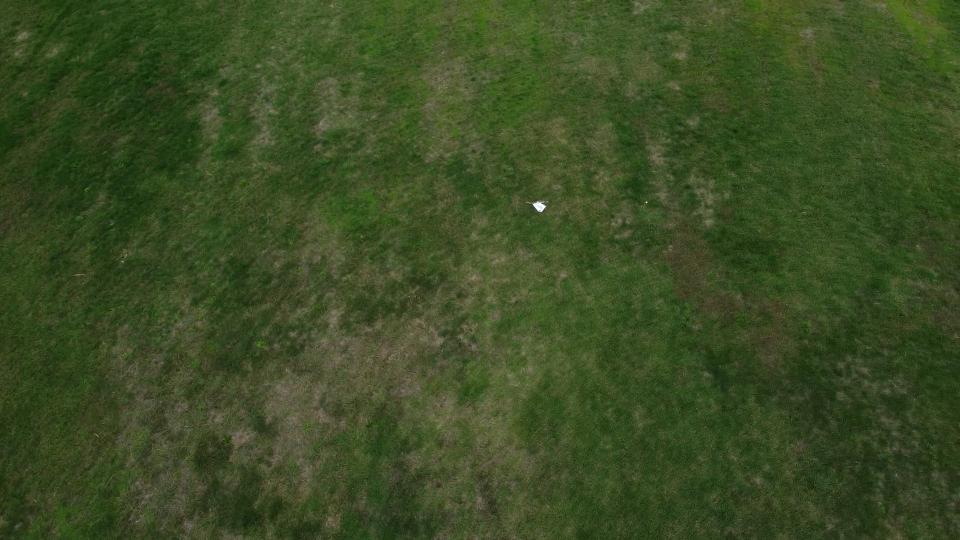zebra_single: (534, 204, 544, 210)
